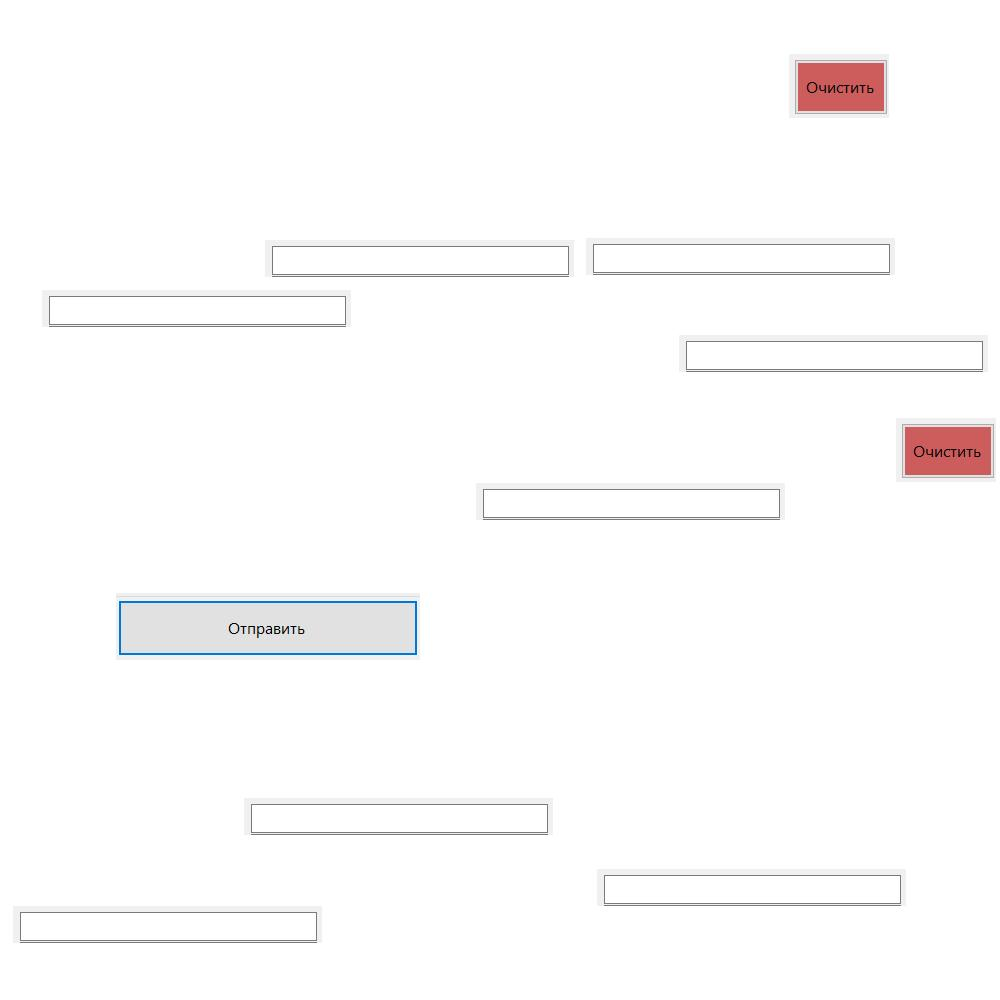Button: (116, 593, 420, 660), (896, 418, 996, 482), (789, 54, 889, 118)
EditText-: (244, 798, 553, 835), (265, 240, 574, 277), (586, 238, 895, 275), (679, 335, 988, 372), (13, 906, 322, 943), (476, 483, 785, 520), (42, 290, 351, 327), (597, 869, 906, 906)
